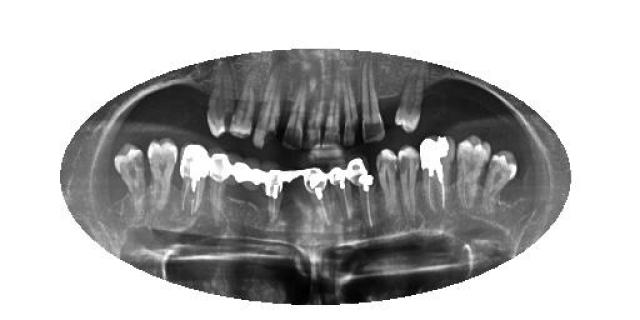Cavity: (206, 68, 236, 138), (254, 76, 280, 152)
Fillings: (208, 149, 228, 220), (242, 155, 262, 191), (225, 152, 244, 188), (280, 170, 304, 186)
Implant: (420, 135, 456, 214), (347, 155, 378, 230), (178, 142, 208, 218), (302, 166, 332, 226), (327, 166, 352, 222), (264, 166, 281, 224)
